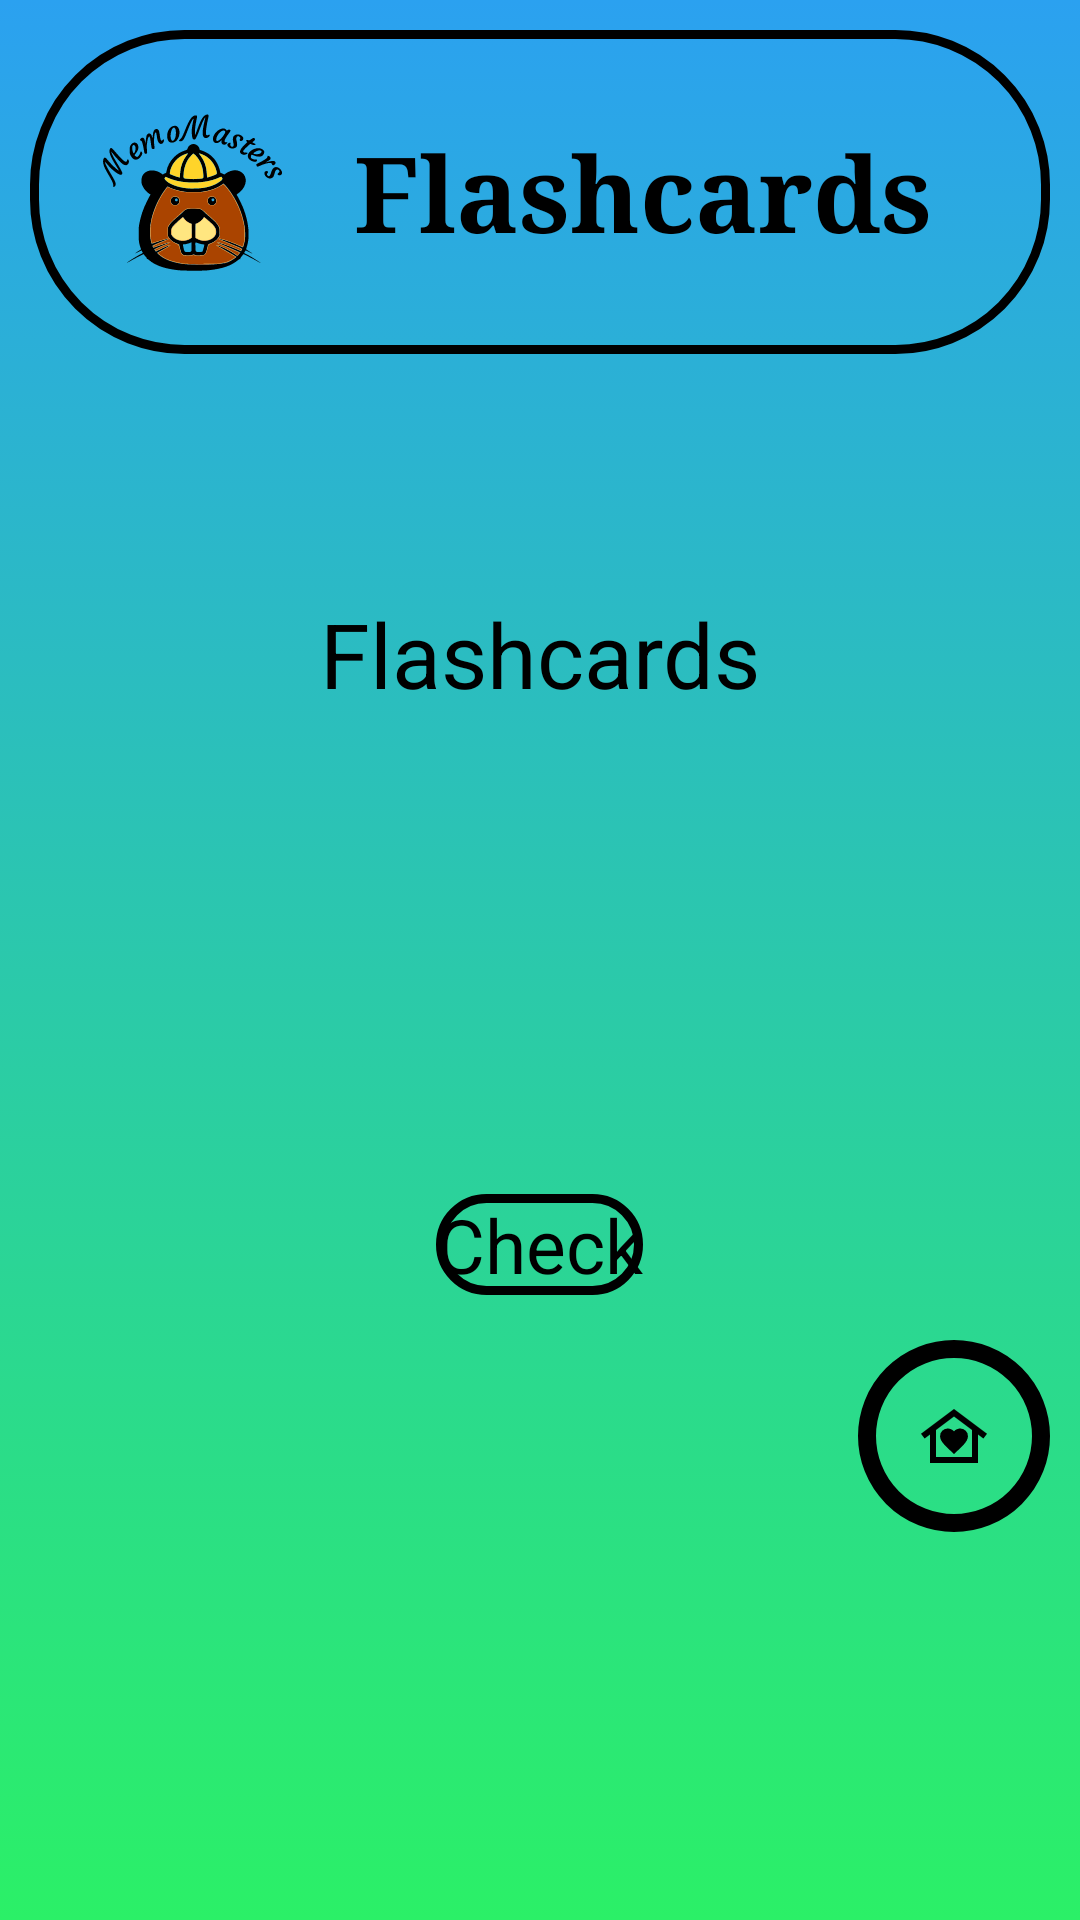

Named icons in this screenshot (1080w x 1920h) and their bounding boxes, detection(x1, y1, x2, y2):
family home: detection(858, 1340, 1050, 1532)
